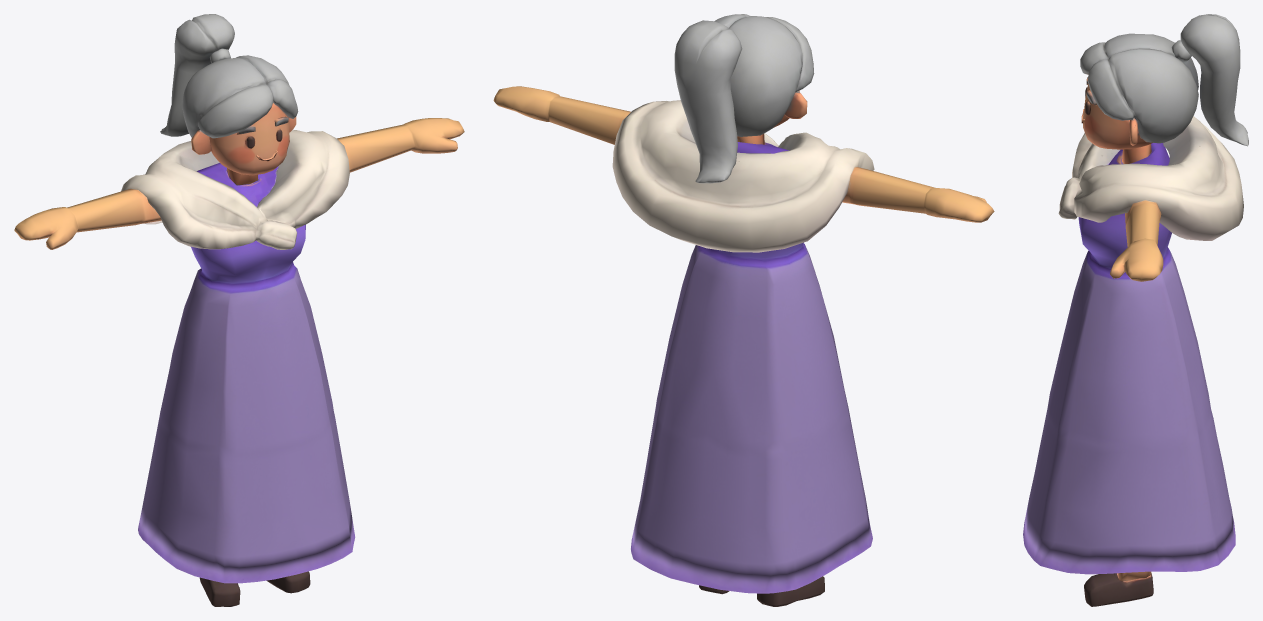
File: salvia_para_mixamo.fbx
The picture shows the model from 3 angles, left to right: view 1: azimuth 30°, elevation 25°; view 2: azimuth 150°, elevation 25°; view 3: azimuth 270°, elevation 25°; orthographic projection. The views are drawn at different scales.
Visible parts, largest first — view 1: tripo_node_5a19c59d-4f78-4351-8774-88154b0606df; view 2: tripo_node_5a19c59d-4f78-4351-8774-88154b0606df; view 3: tripo_node_5a19c59d-4f78-4351-8774-88154b0606df.
Part boxes in pixels (x1,y1,x2,y2): tripo_node_5a19c59d-4f78-4351-8774-88154b0606df: (14,14,464,606); tripo_node_5a19c59d-4f78-4351-8774-88154b0606df: (493,14,994,606); tripo_node_5a19c59d-4f78-4351-8774-88154b0606df: (1023,14,1248,606).
Bounding box in the file's own units: 85.35 × 99.8 × 36.13.
1 material, 1 textured.
